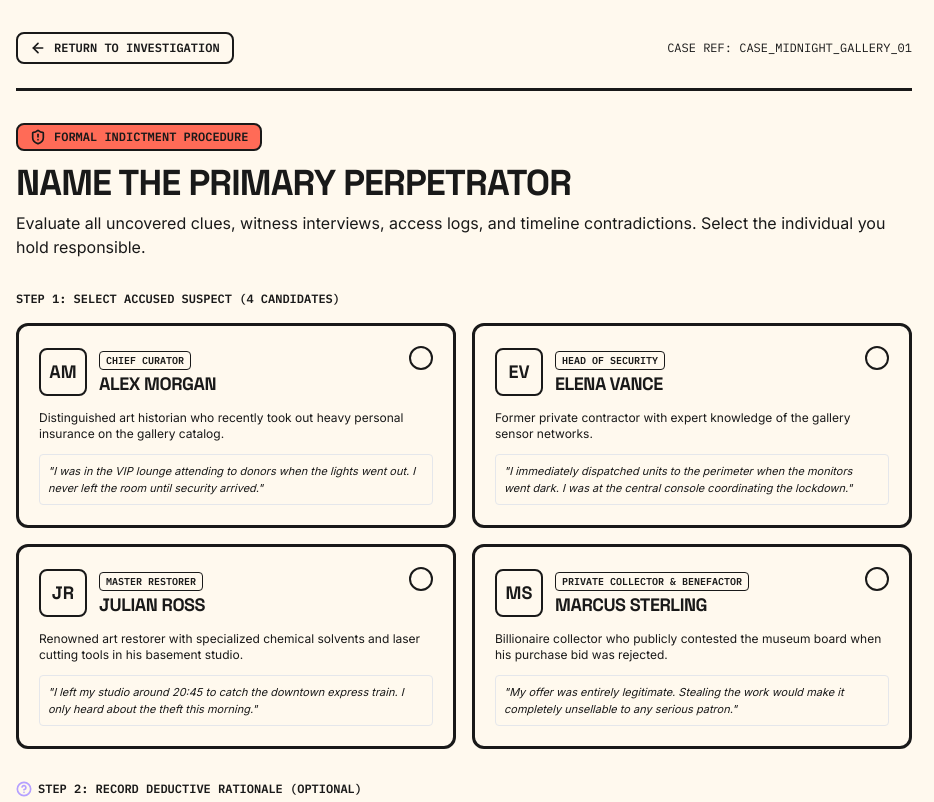
Test case: Accusation Flow and Solution Reveal › disables submit button until a suspect is selected
The image size is (934, 802).
Expected: the heading "NAME THE PRIMARY PERPETRATOR" is shown, left=16, top=160, right=571, bottom=206
// Select Julian Ross
What coordinates should you click on to do the following:
click the heading "Julian Ross"
I would click on:
 (152, 605)
Its box is left=99, top=591, right=205, bottom=619.
(page scrolled)
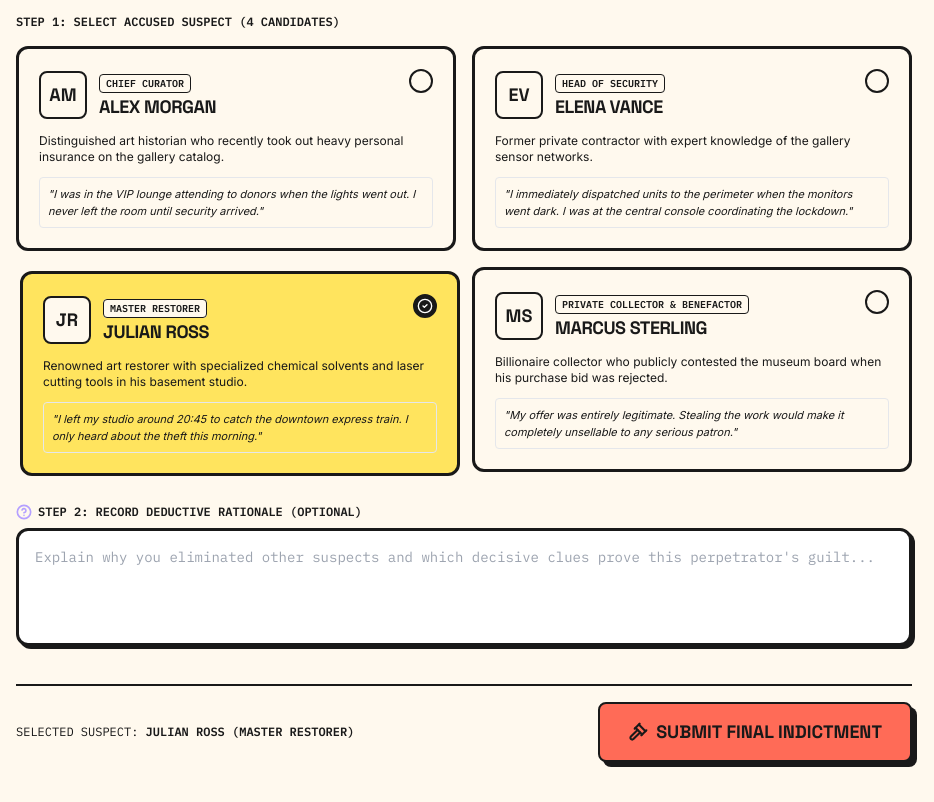
Now the button "SUBMIT FINAL INDICTMENT" is enabled, box left=598, top=702, right=912, bottom=762
